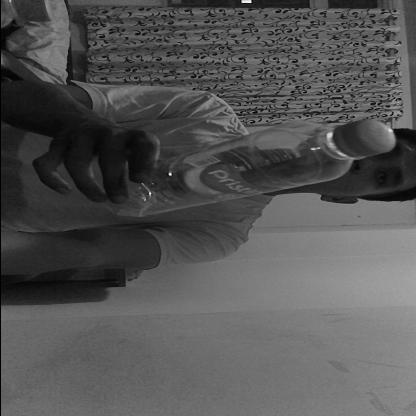plastic_bottles: (97, 119, 393, 217)
